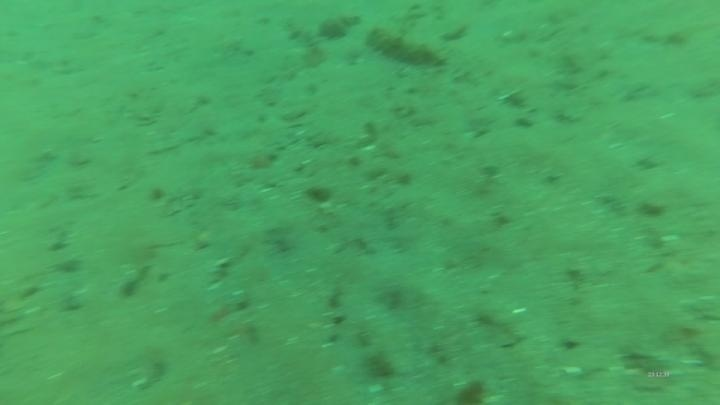holothurian: (364, 22, 451, 71)
